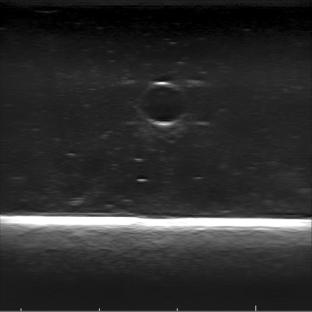vessel: (138, 80, 190, 127)
